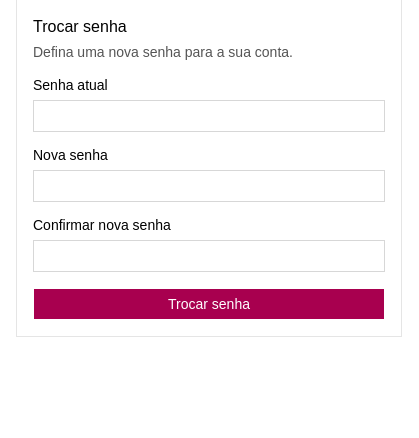
ChangePasswordForm › mostra erros de validação ao submeter vazio
Click the button "Trocar senha" at (209, 304), box [33,288,385,320]
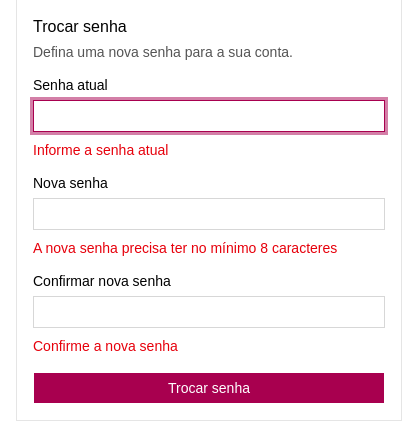
Now the text "Informe a senha atual" is shown, box [33,142,168,158]
Now the text "A nova senha precisa ter no mínimo 8 caracteres" is shown, box [33,238,385,258]
